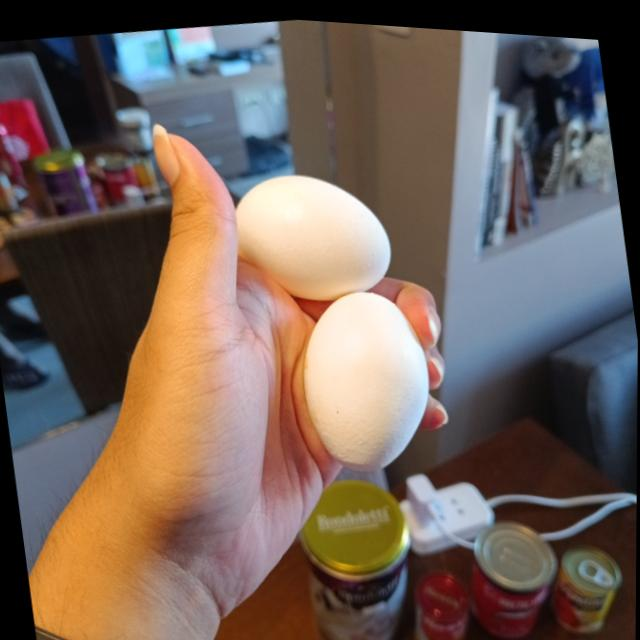egg: (292, 276, 440, 473), (230, 156, 399, 306)
